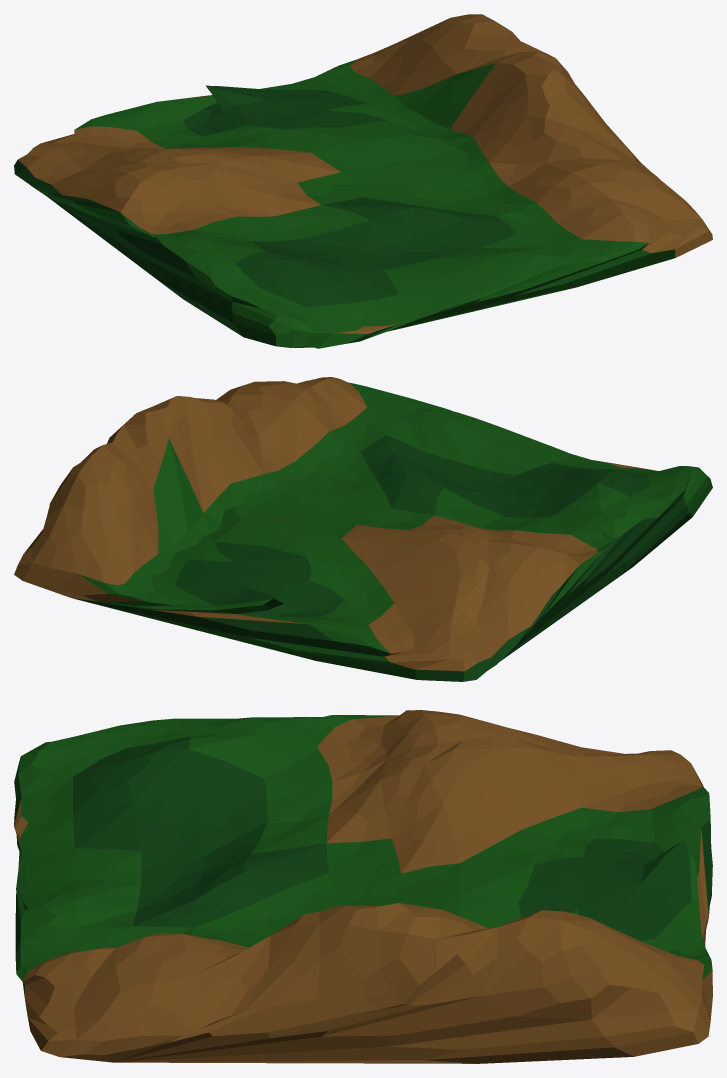
The model's file is _and1.fbx.
3 views of the same model, one above another, from view 1: azimuth 30°, elevation 25°; view 2: azimuth 150°, elevation 25°; view 3: azimuth 270°, elevation 25° (orthographic). The views are drawn at different scales.
Visible parts, largest first — view 1: Land3; view 2: Land3; view 3: Land3.
Boxes of the visible parts, box(x1,y1,x2,y2) form: Land3: box(14, 14, 712, 348); Land3: box(14, 377, 712, 681); Land3: box(14, 710, 712, 1063).
Bounding box in the file's own units: 10003 × 2306 × 9989.
